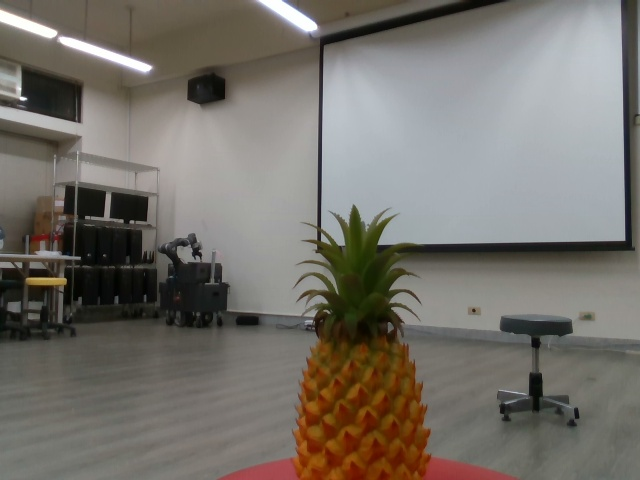pineapple: (286, 204, 435, 480)
